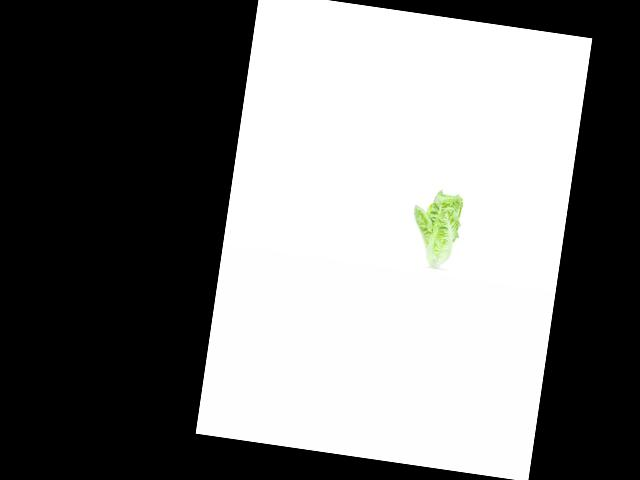lettuce: (406, 185, 468, 268)
